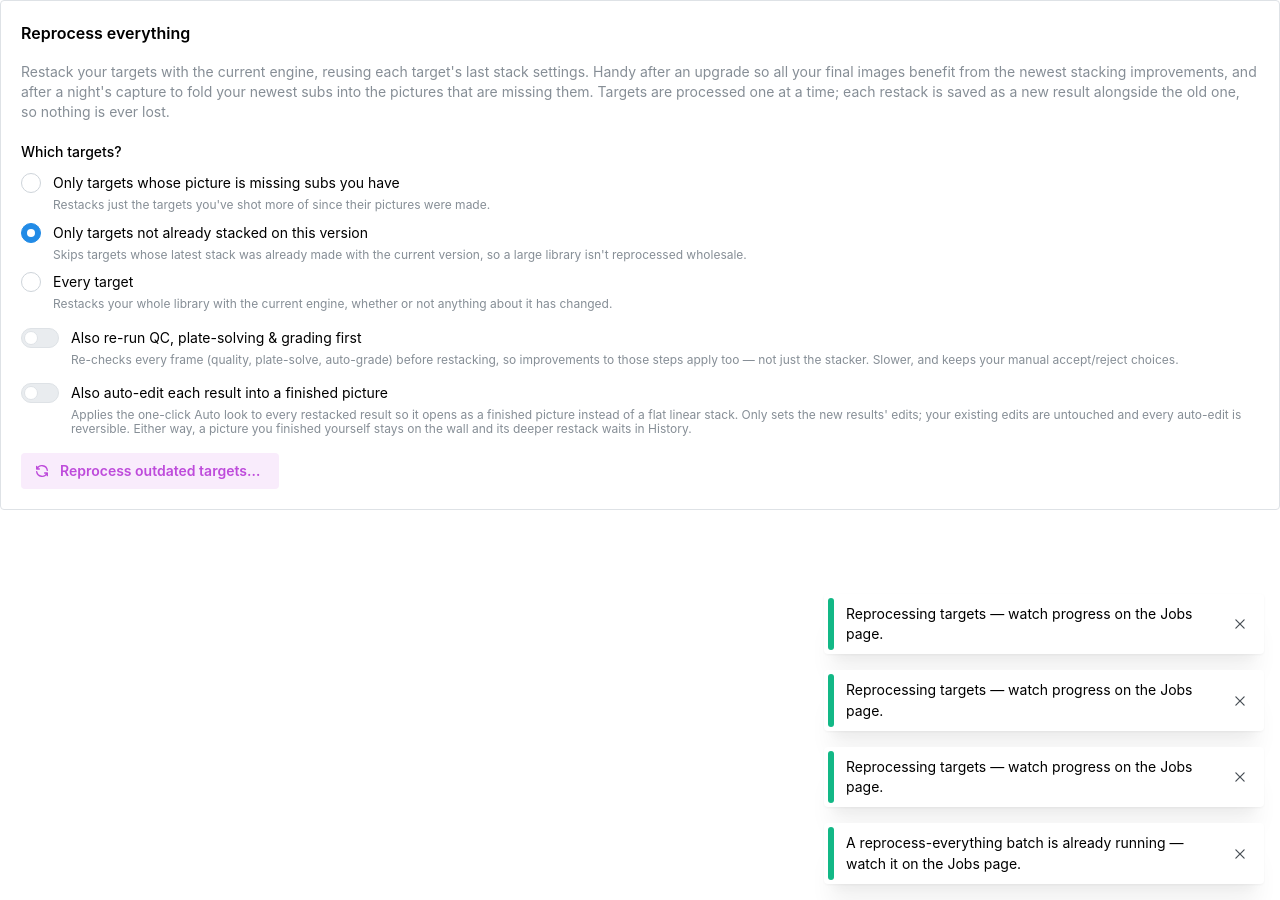
Maintenance — reprocess everything › shows an error notification when the request fails
Step 1. Click the button "Reprocess outdated targets…" → (150, 471), box [21,453,279,489]
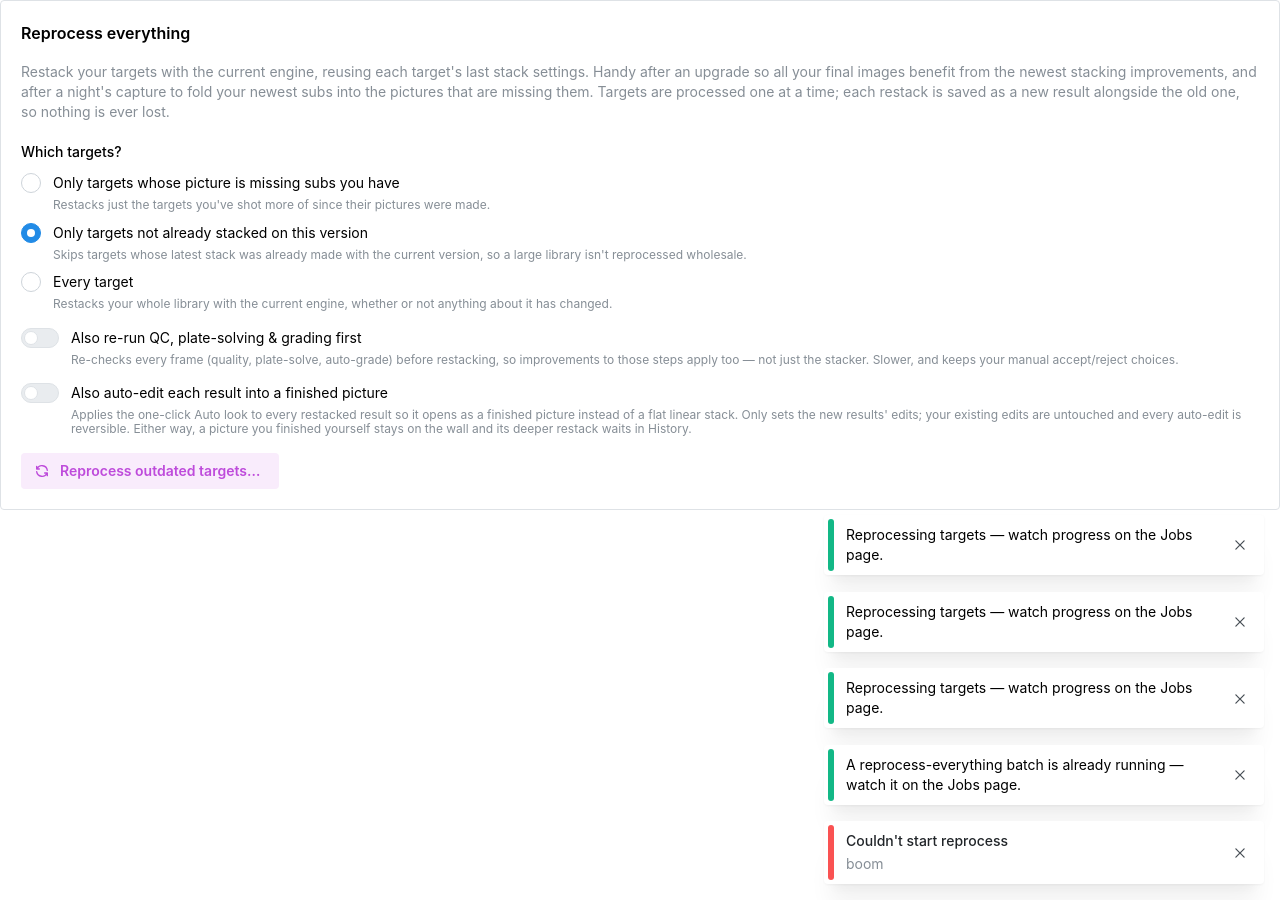
Result: the text "boom" is shown at [846,855,884,872]
